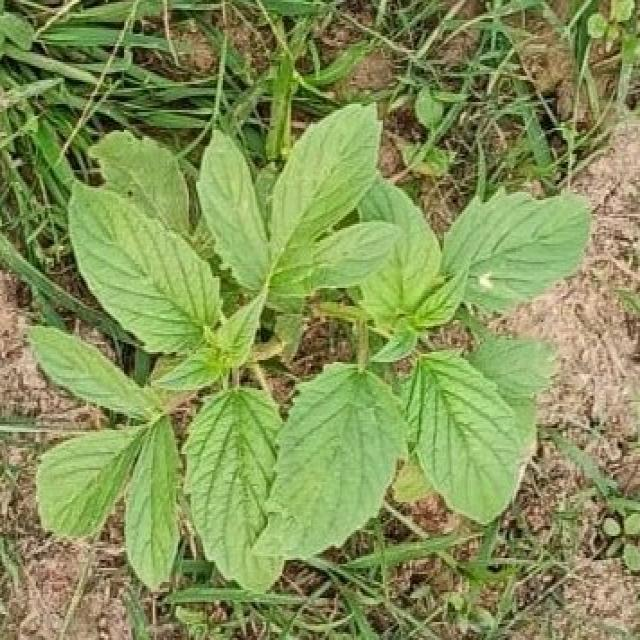plant: (32, 104, 590, 590)
